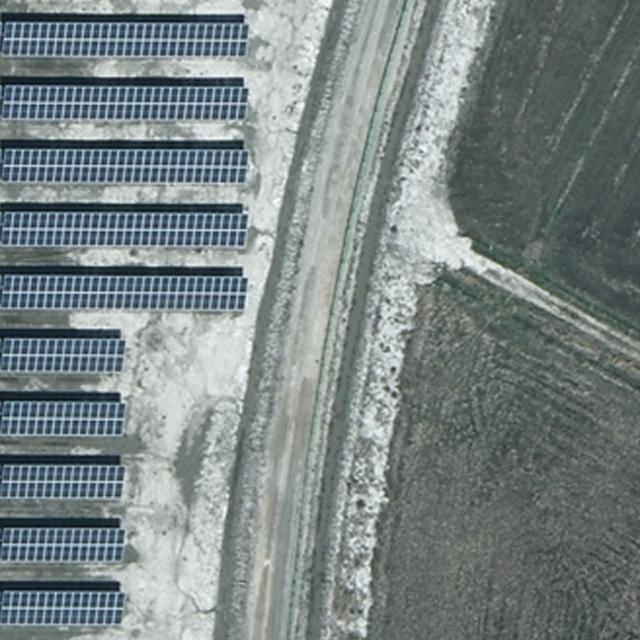panel: (0, 273, 248, 312), (0, 210, 249, 248), (0, 147, 249, 185), (0, 20, 249, 58), (0, 85, 248, 123), (0, 461, 127, 502), (2, 401, 129, 442), (0, 526, 127, 566), (0, 337, 127, 376)
